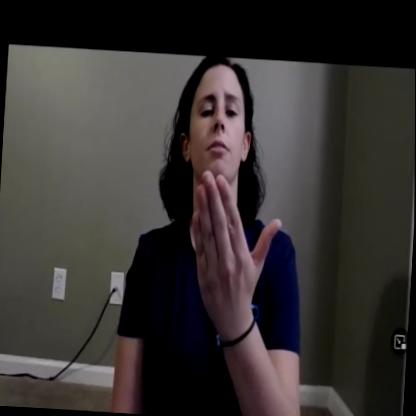ThankYou: (145, 50, 302, 368)
